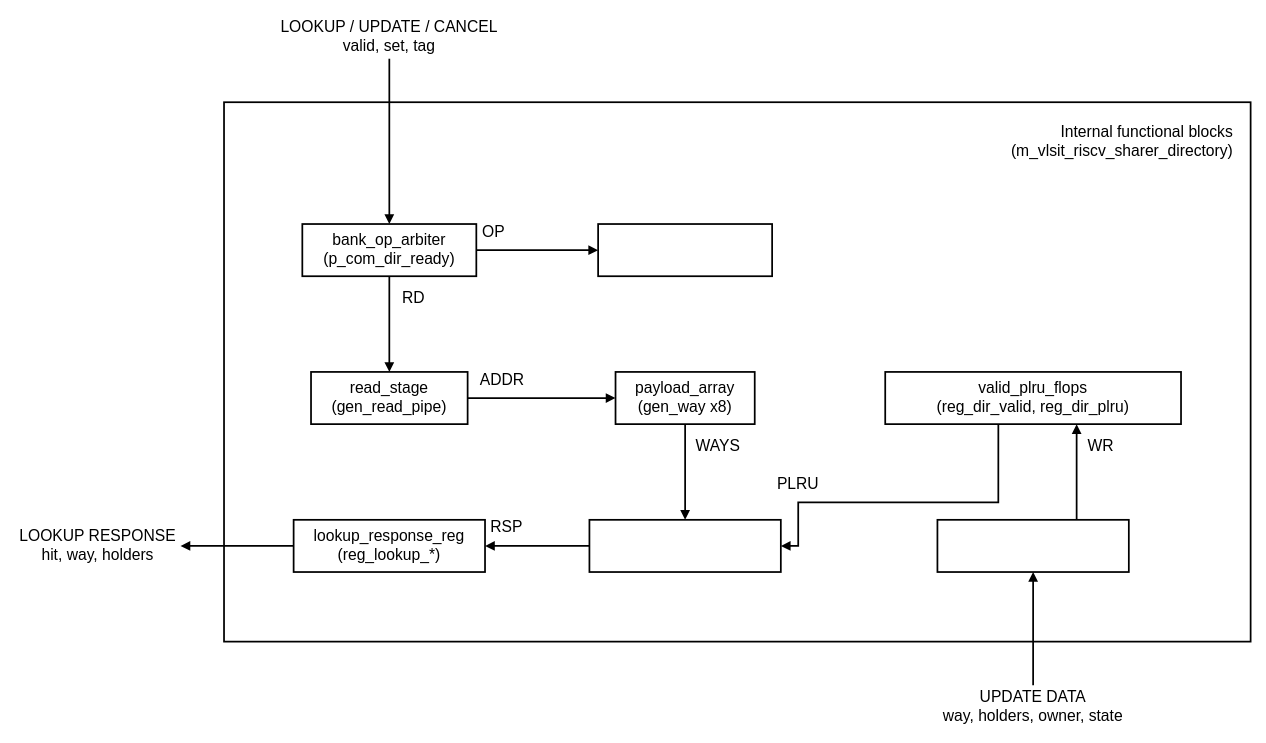
Some shapes in this 1266 by 743 pixel diagram are drawn without their labels. The shapes that lost their labels are listed below. From the top down, each one's box as (x1, y1, x2, y2) in pixels, then its label:
(597, 223, 773, 277): set_reservation (reg_dir_resv_*)
(588, 519, 781, 572): hit_victim_select (p_com_dir_lookup)
(936, 519, 1129, 572): update_writer (p_ff_dir_storage)
